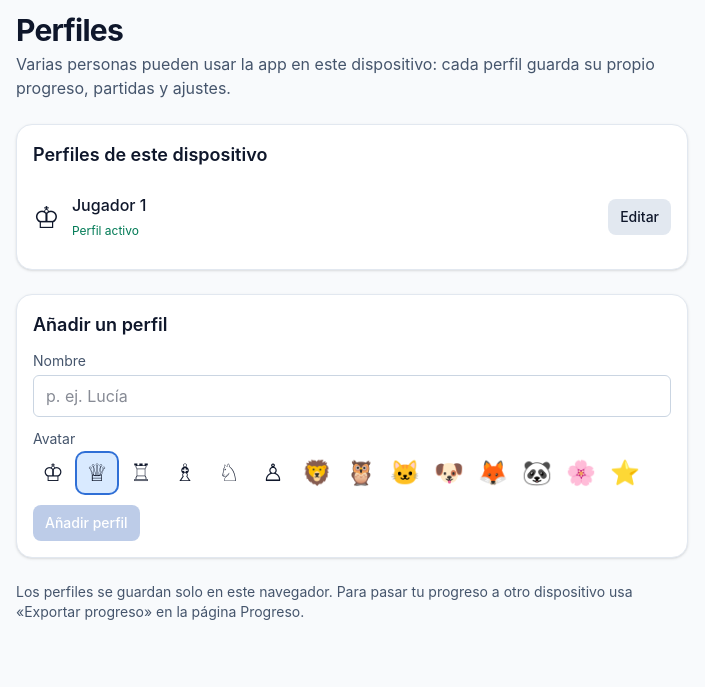
perfiles (interfaz) › impide nombres repetidos
Type "jugador 1" into the field labelled "Nombre" at (352,396), box top-left (33, 375), bottom-right (671, 417)
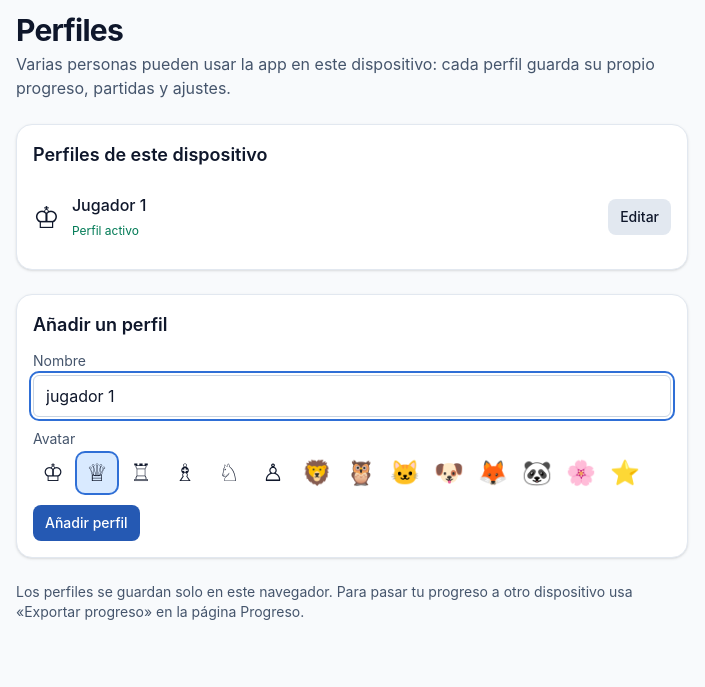
Click the button "Añadir perfil" at (86,523), box top-left (33, 505), bottom-right (140, 541)
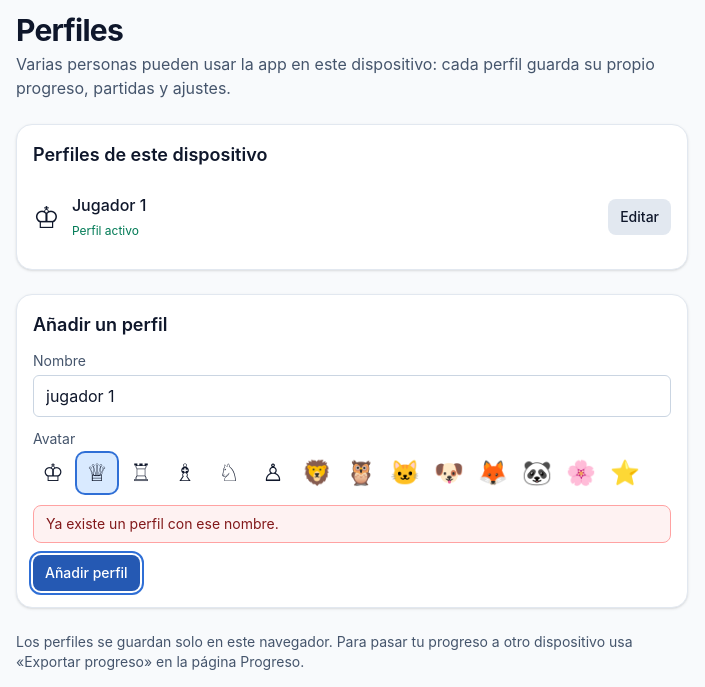
Now the text "Ya existe un perfil con ese nombre." is shown, box top-left (33, 505), bottom-right (671, 543)
